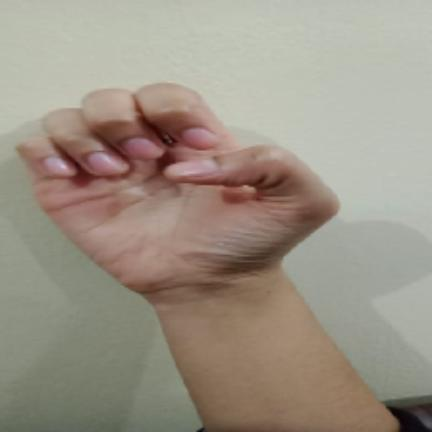Nail: (88, 152, 130, 175), (124, 138, 163, 162), (164, 161, 219, 177), (182, 127, 217, 150), (44, 155, 76, 178)
